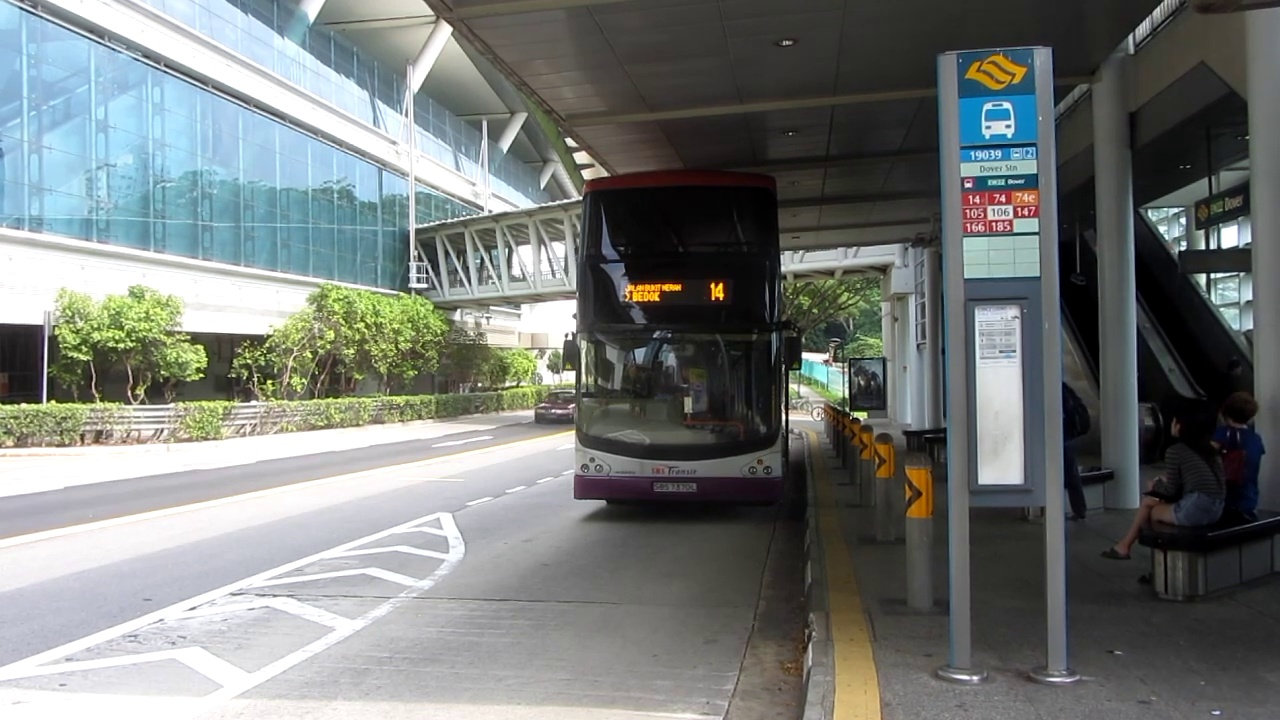bus panel: (619, 279, 730, 307)
